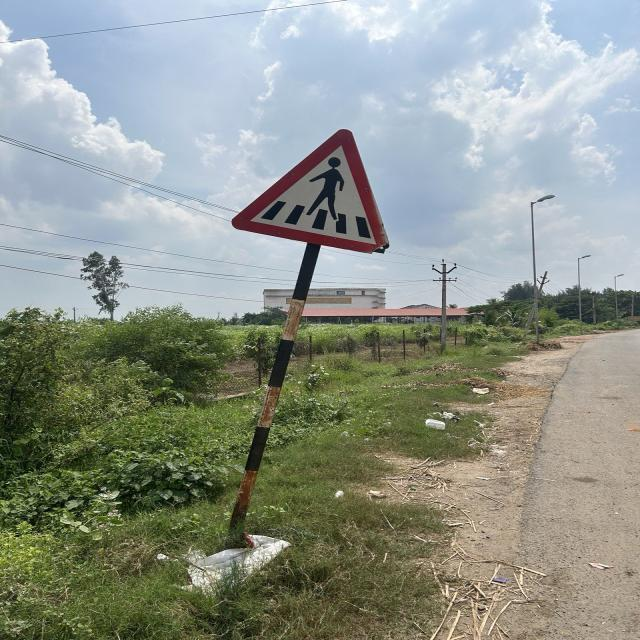pedestrian crossing: (230, 126, 389, 254)
